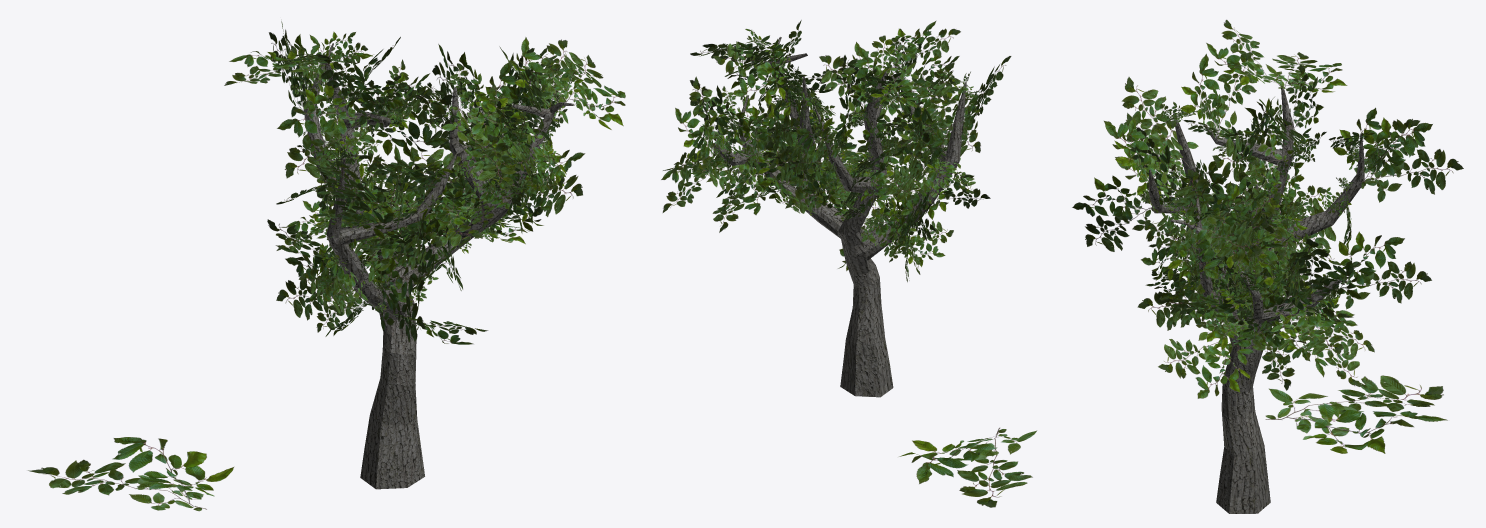
The model's file is tree_1.glb.
3 renders of one model, left to right at view 1: azimuth 30°, elevation 25°; view 2: azimuth 150°, elevation 25°; view 3: azimuth 270°, elevation 25°, orthographic. The views are drawn at different scales.
Visible parts, largest first — view 1: Branch (×38), Tree; view 2: Branch (×44), Tree; view 3: Branch (×46), Tree.
Boxes of the visible parts, x1,y1,x2,y2 form: Branch (×38): (28,32,625,511); Tree: (303,43,574,489); Branch (×44): (661,20,1036,507); Tree: (712,37,966,397); Branch (×46): (1072,19,1463,453); Tree: (1148,88,1364,513).
Bounding box in the file's own units: 20.1 × 17.98 × 14.71.
2 materials, 2 textured.
